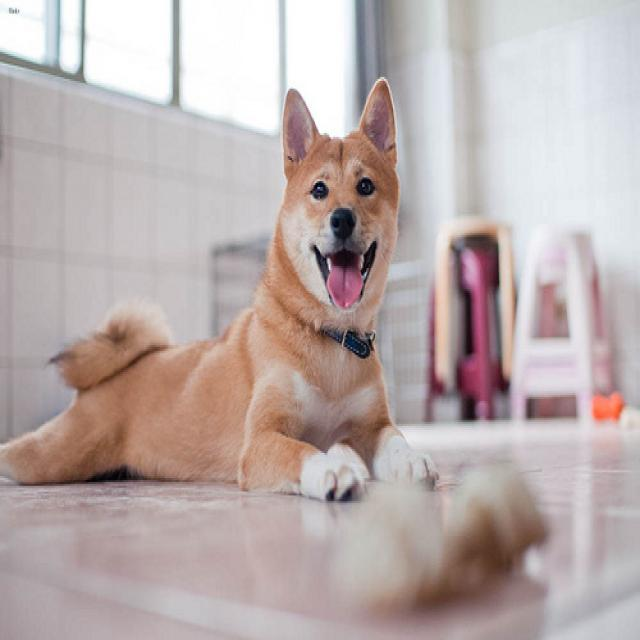dog-shiba_inu: (1, 66, 444, 513)
